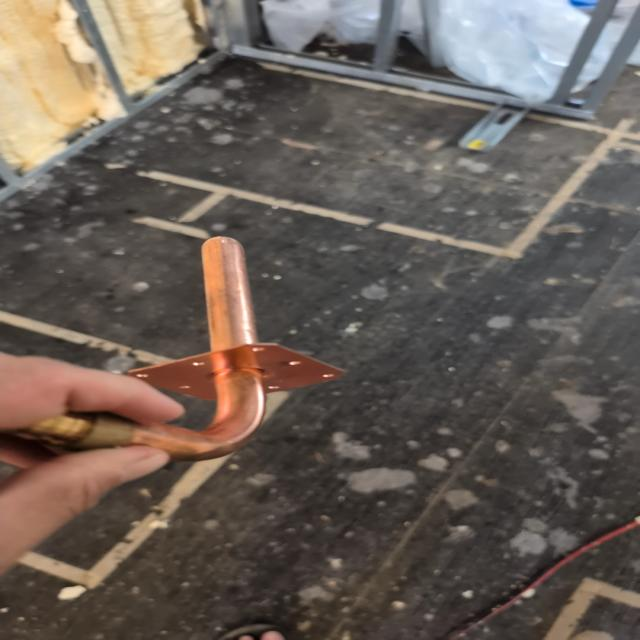wall_flange: (27, 210, 345, 496)
